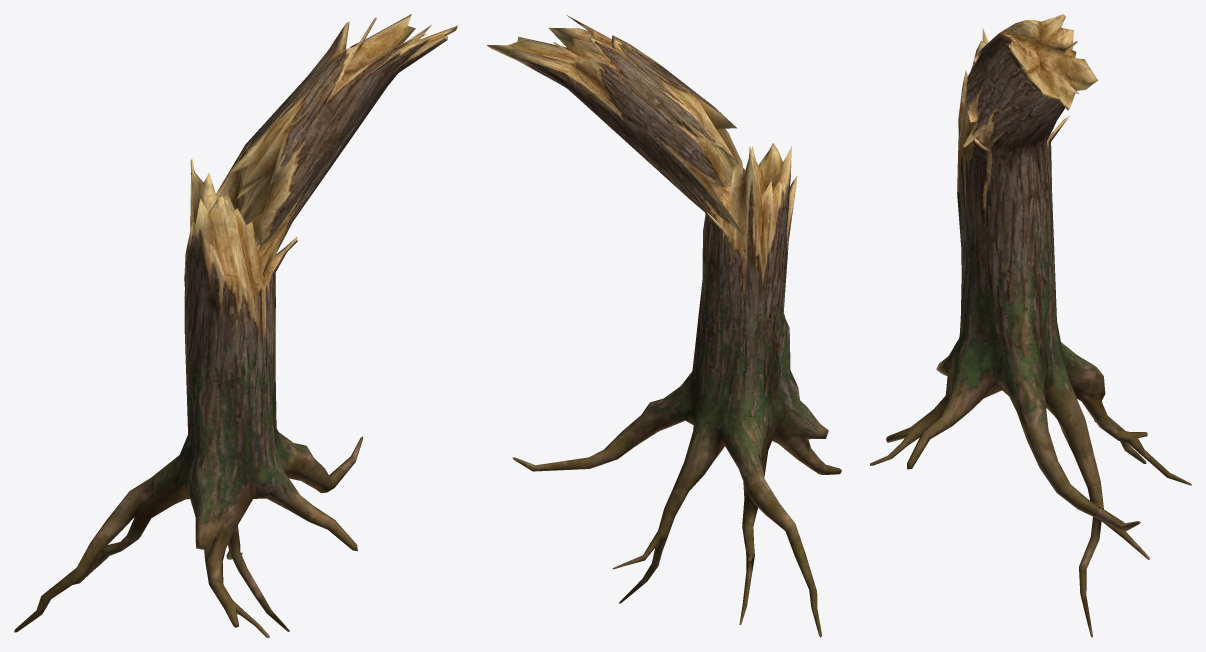
File: TreeBroken4.fbx
3 views of the same model, side by side, from view 1: azimuth 30°, elevation 25°; view 2: azimuth 150°, elevation 25°; view 3: azimuth 270°, elevation 25° (orthographic). The views are drawn at different scales.
Visible parts, largest first — view 1: SM_cmn_mount_BrokenTree_02b; view 2: SM_cmn_mount_BrokenTree_02b; view 3: SM_cmn_mount_BrokenTree_02b.
Part boxes in pixels (<box>): SM_cmn_mount_BrokenTree_02b: <box>14,14,457,637</box>; SM_cmn_mount_BrokenTree_02b: <box>487,15,841,637</box>; SM_cmn_mount_BrokenTree_02b: <box>870,14,1191,637</box>.
Size of the model in its own units: 475 by 677 by 305.
